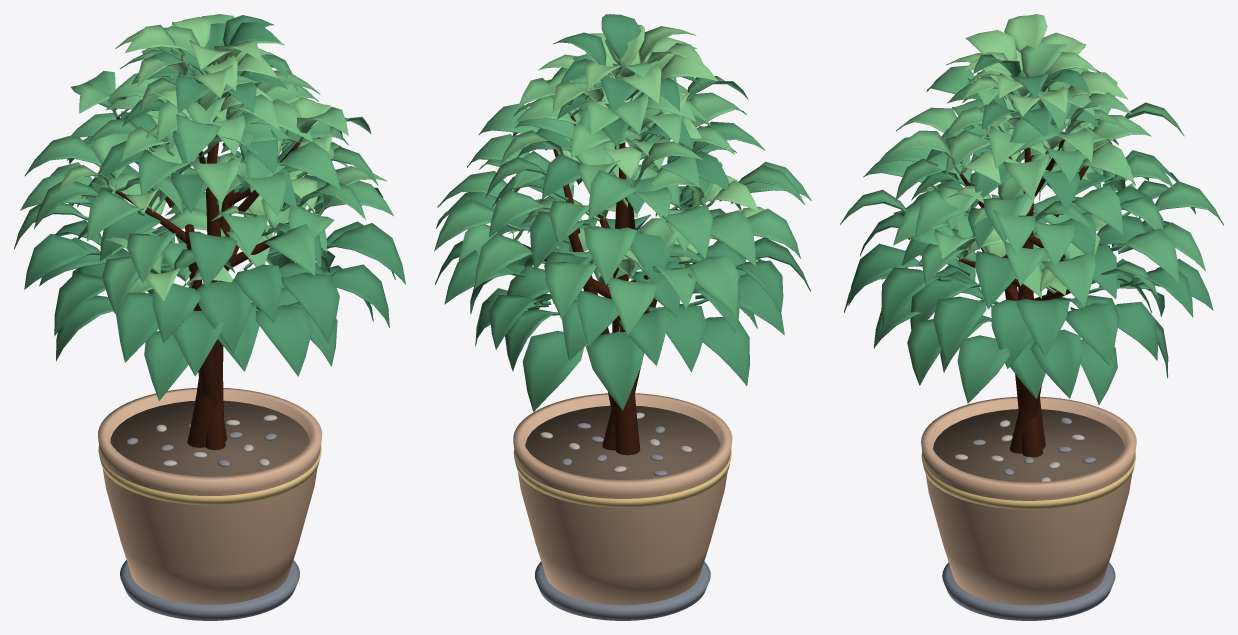
Rendered from FicusPlant_CC0.glb.
3 views of the same model, side by side, from view 1: azimuth 30°, elevation 25°; view 2: azimuth 150°, elevation 25°; view 3: azimuth 270°, elevation 25° (orthographic). The views are drawn at different scales.
Parts seen in each view (by area): view 1: PlanterSaucer; view 2: PlanterSaucer; view 3: PlanterSaucer.
Part boxes in pixels (bbox=[...]): PlanterSaucer: bbox=[14, 14, 405, 620]; PlanterSaucer: bbox=[434, 14, 811, 620]; PlanterSaucer: bbox=[840, 14, 1223, 620].
Size of the model in its own units: 1.39 by 2.11 by 1.35.
Materials: 11 (1 with a texture image).
